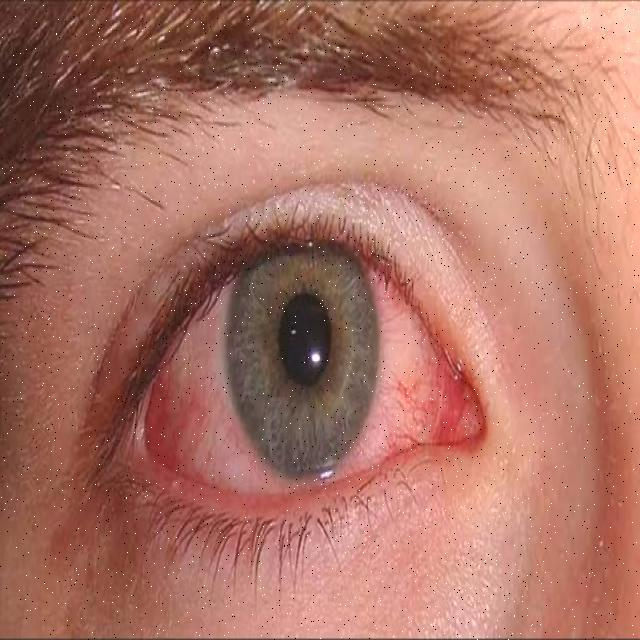Conjunctivitis: (120, 286, 491, 492)
